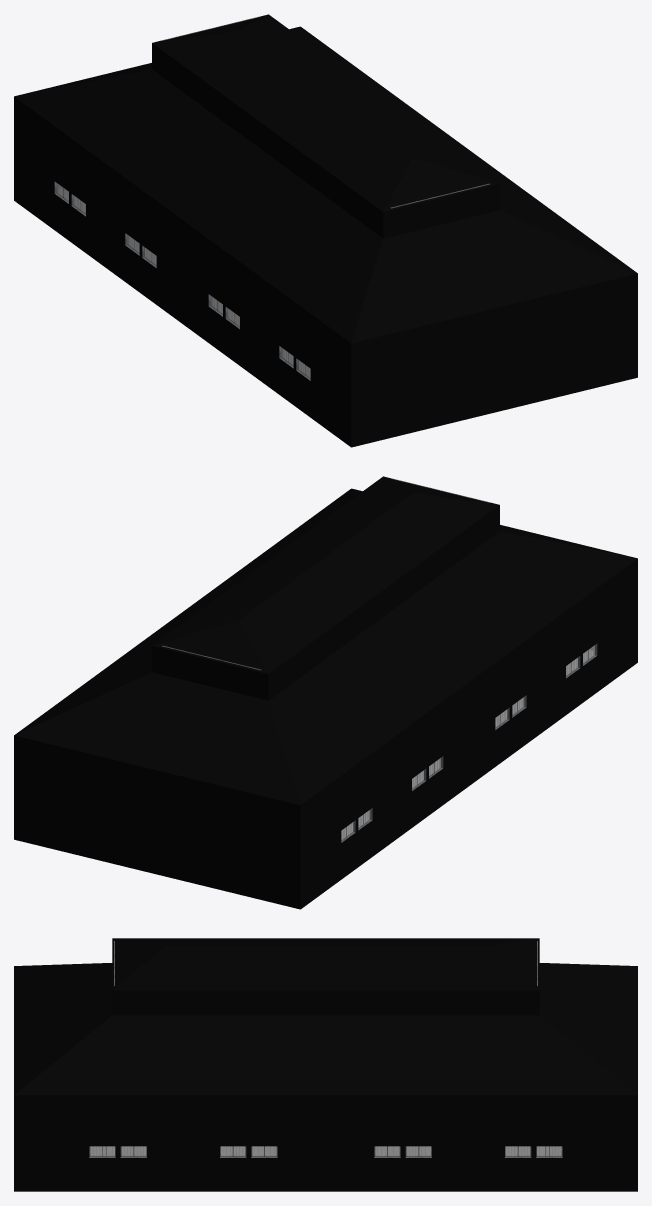
The model's file is warehouseClosets.gltf.
The picture shows the model from 3 angles, top to bottom: view 1: azimuth 30°, elevation 25°; view 2: azimuth 150°, elevation 25°; view 3: azimuth 270°, elevation 25°; orthographic projection. The views are drawn at different scales.
Visible parts, largest first — view 1: Material2 (×4); view 2: Material2 (×4); view 3: Material2 (×4).
Part boxes in pixels (bbox=[...]): Material2 (×4): bbox=[14, 14, 637, 447]; Material2 (×4): bbox=[14, 476, 637, 909]; Material2 (×4): bbox=[14, 938, 637, 1191].
Size of the model in its own units: 675 by 438 by 1376.
12 materials, 7 textured.
